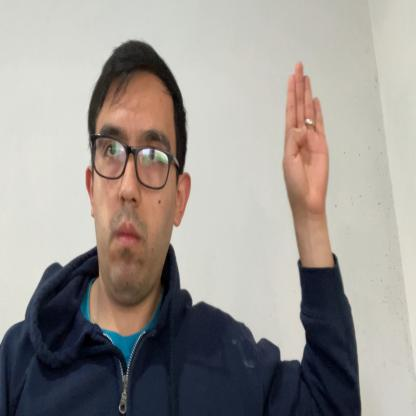B: (282, 60, 329, 215)
